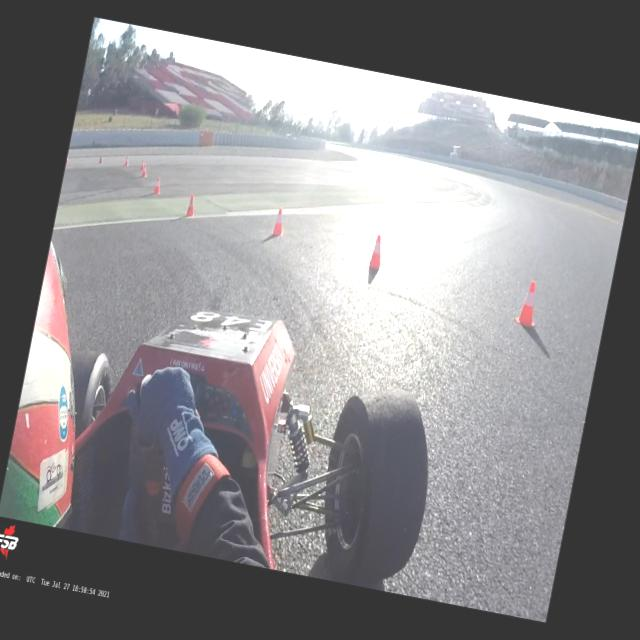orange_cone: (513, 278, 544, 328), (366, 234, 386, 271), (271, 208, 288, 238), (185, 194, 198, 218), (152, 177, 162, 194), (141, 164, 149, 178), (140, 160, 146, 171), (124, 156, 130, 167), (98, 155, 104, 165)
